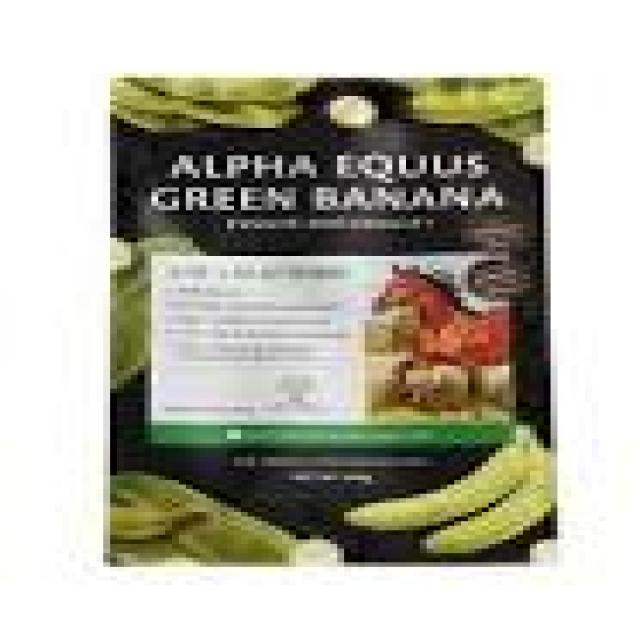banana: (345, 430, 536, 530), (427, 444, 557, 553)
